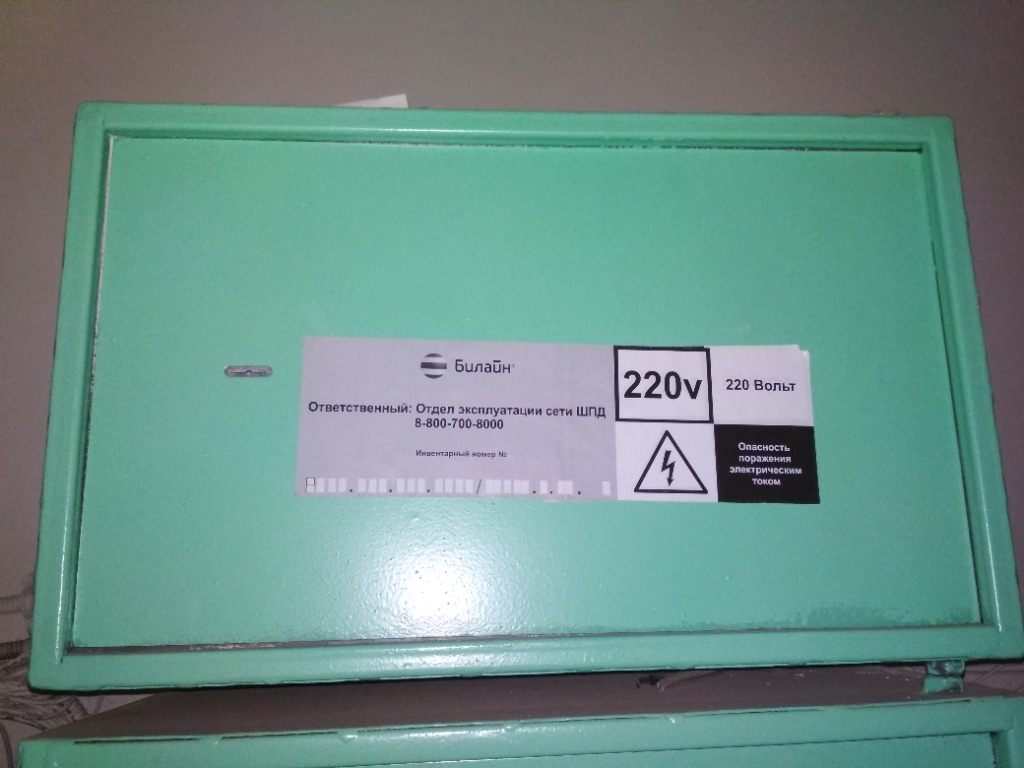e2-6u: (24, 100, 1017, 700)
